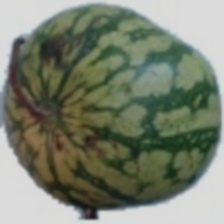watermelon: (40, 17, 208, 195)
